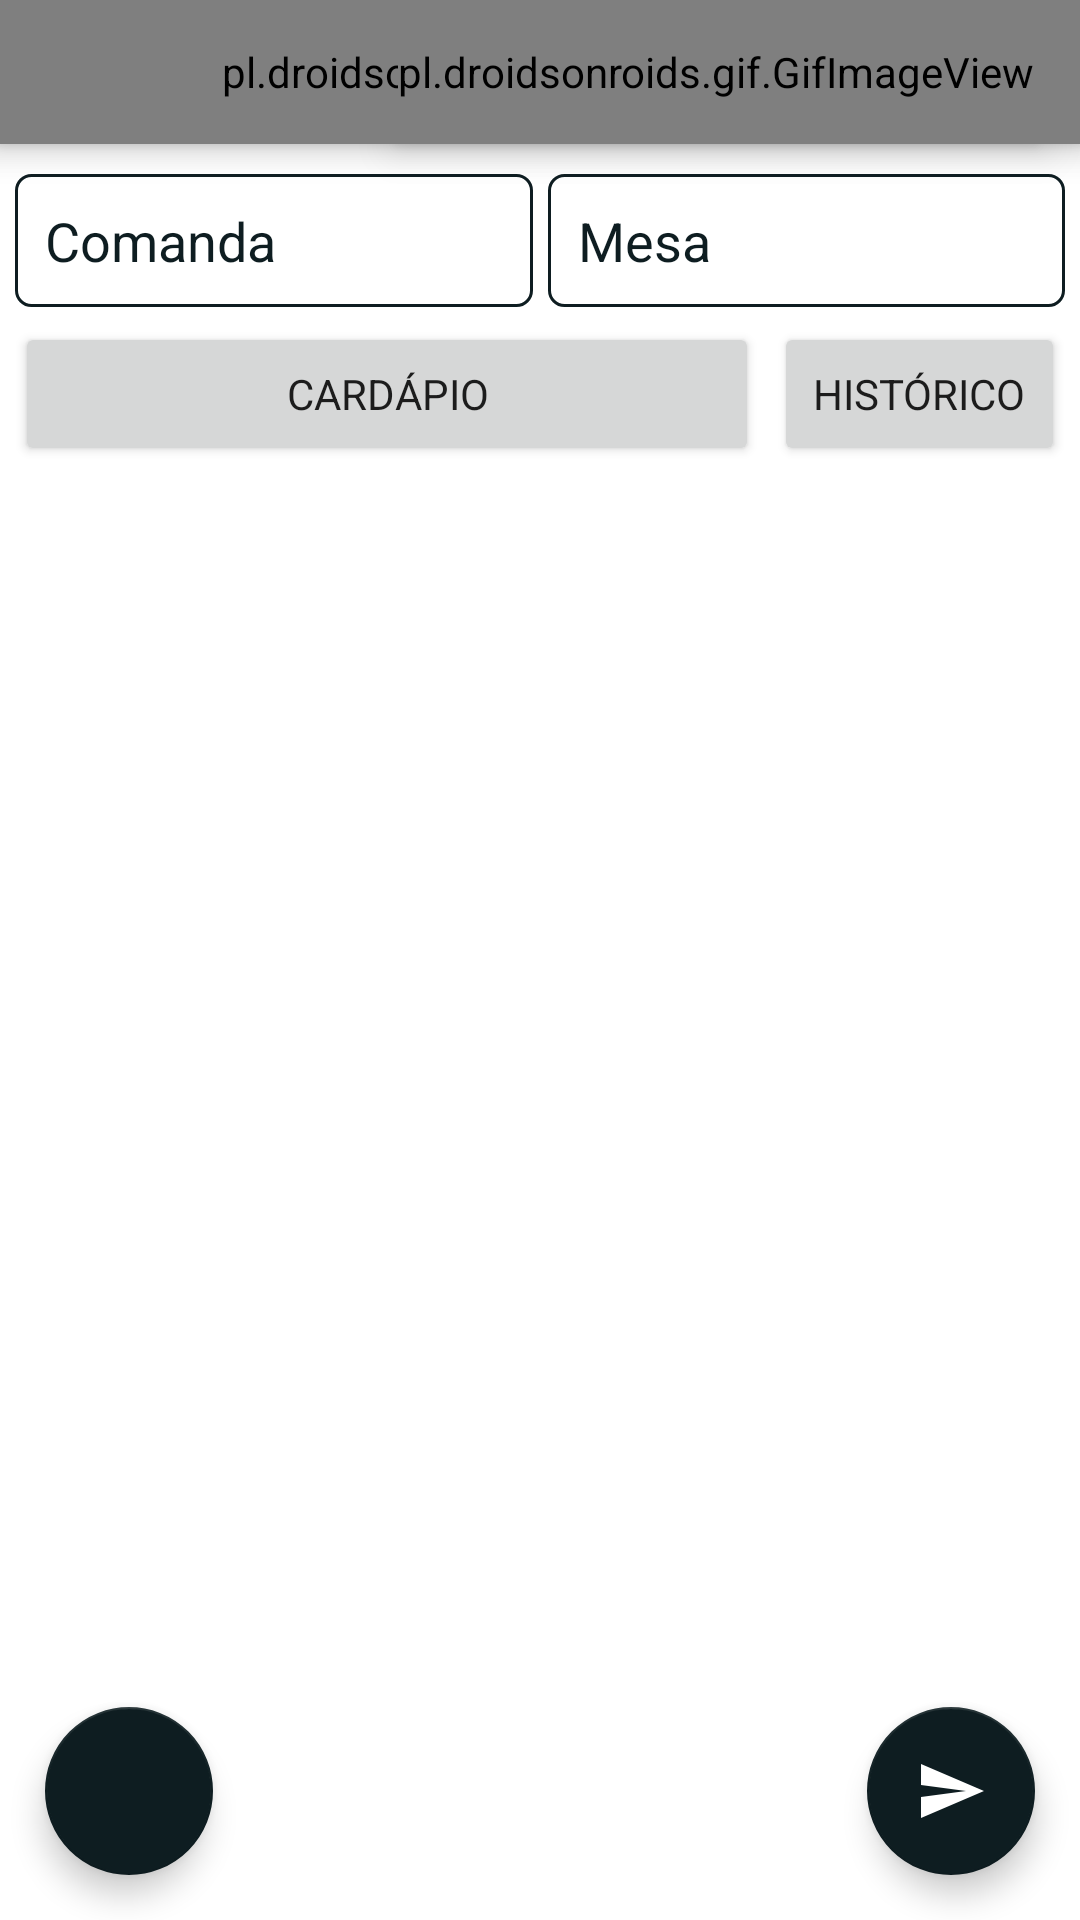

Screen size 1080 x 1920. Icon name, then its center in pixels as (x,y):
send order: (951,1791)
